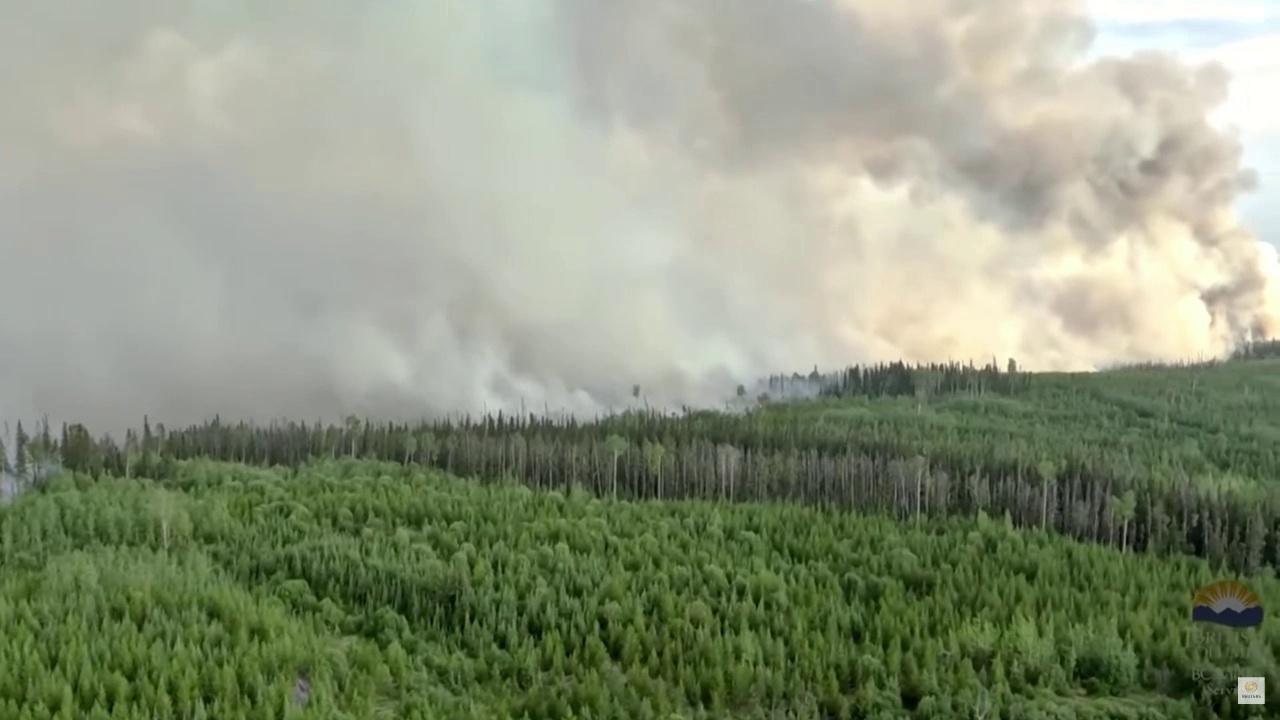smoke: (0, 0, 1280, 507)
